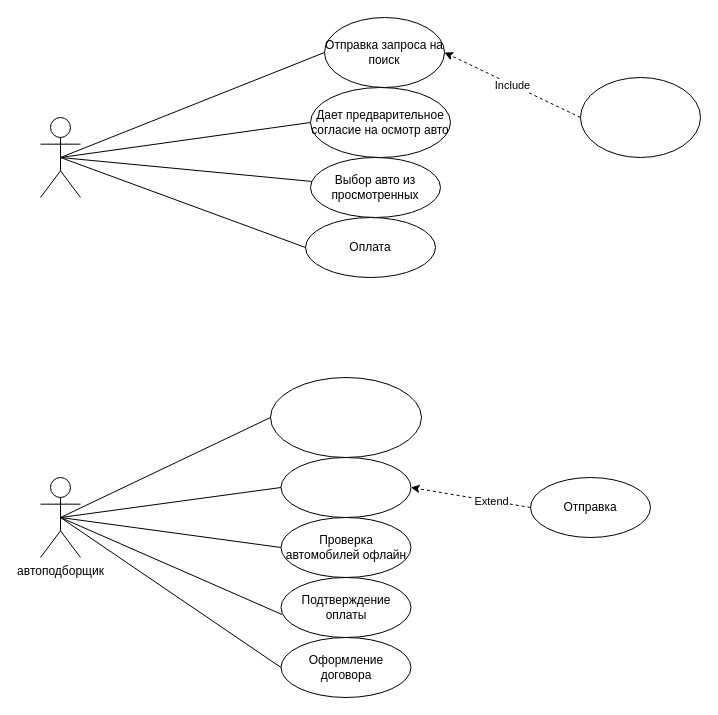
The diagram is 718 pixels wide and 715 high, and some of its shapes have lost their labels. The shapes that lost their labels are listed below. From the top down, each one's box as (x1, y1, x2, y2) in pixels, then its label:
(580, 76, 700, 158): Предоплата
(40, 116, 80, 198): клиент
(270, 376, 422, 458): Принятие запроса
(280, 456, 411, 518): Поиск автомобилей (онлайн)
